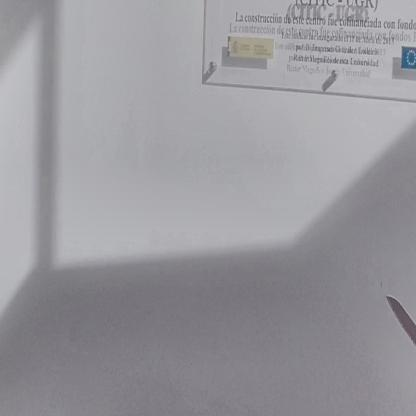knife: (382, 286, 416, 384)
